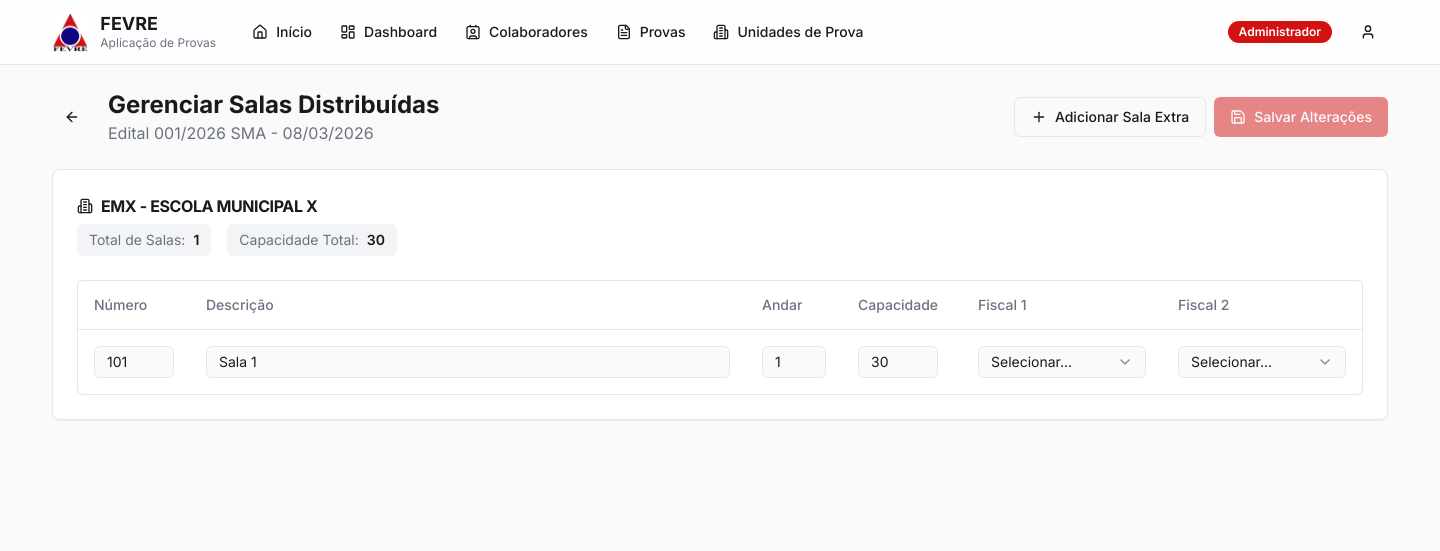
Scenario: GerenciarSalasDistribuidas — refetch não apaga edição pendente › descartar as minhas alterações assume o que veio do servidor
This screenshot has width=1440, height=551.
Replace the text in the field showing "Sala 1" with "MINHA EDIÇÃO" at (468, 362), box [206,346,730,378]
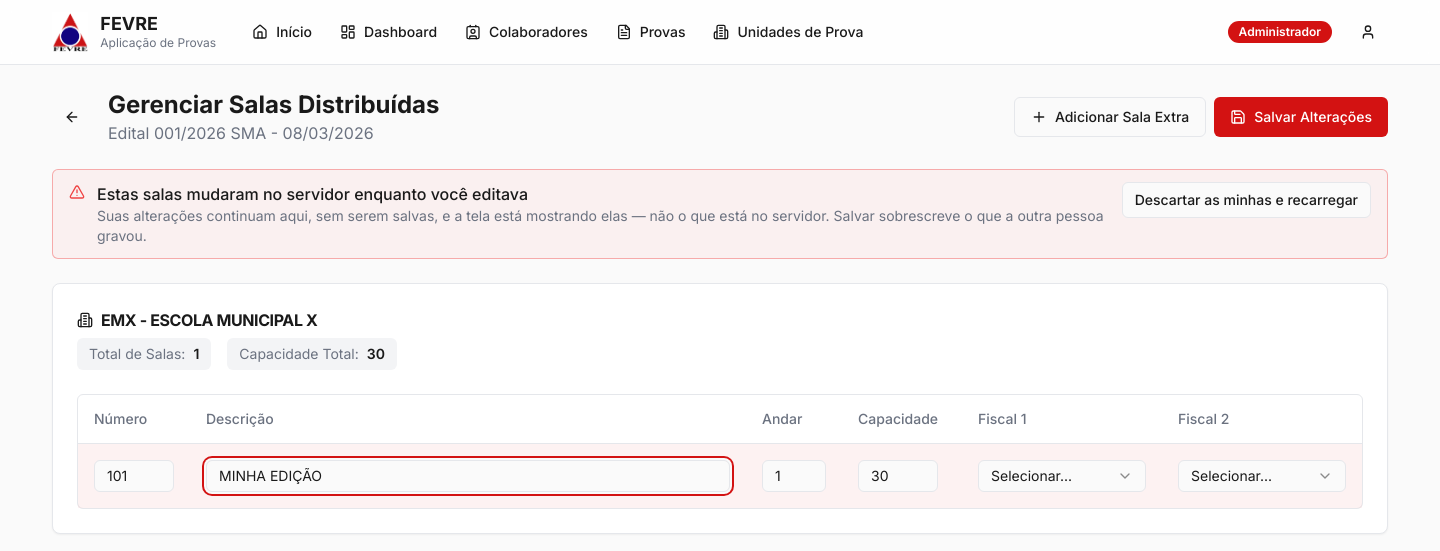
Expected: the text "Estas salas mudaram no servidor enquanto você editava" is shown, [97,184,528,204]
Click the button "Descartar as minhas e recarregar" at (1246, 200), box [1122,182,1371,218]
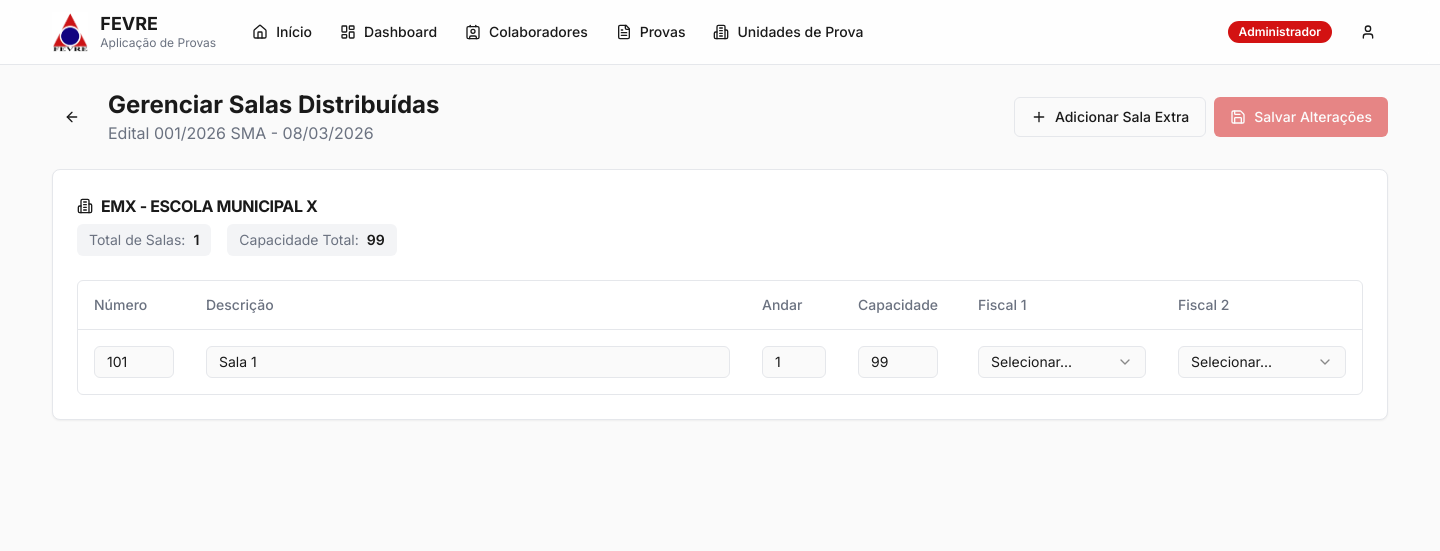
Expected: the field showing "MINHA EDIÇÃO" is not shown
Expected: the 3rd number field showing "99" is shown, [858,346,938,378]
Expected: the text "Estas salas mudaram no servidor enquanto você editava" is gone
